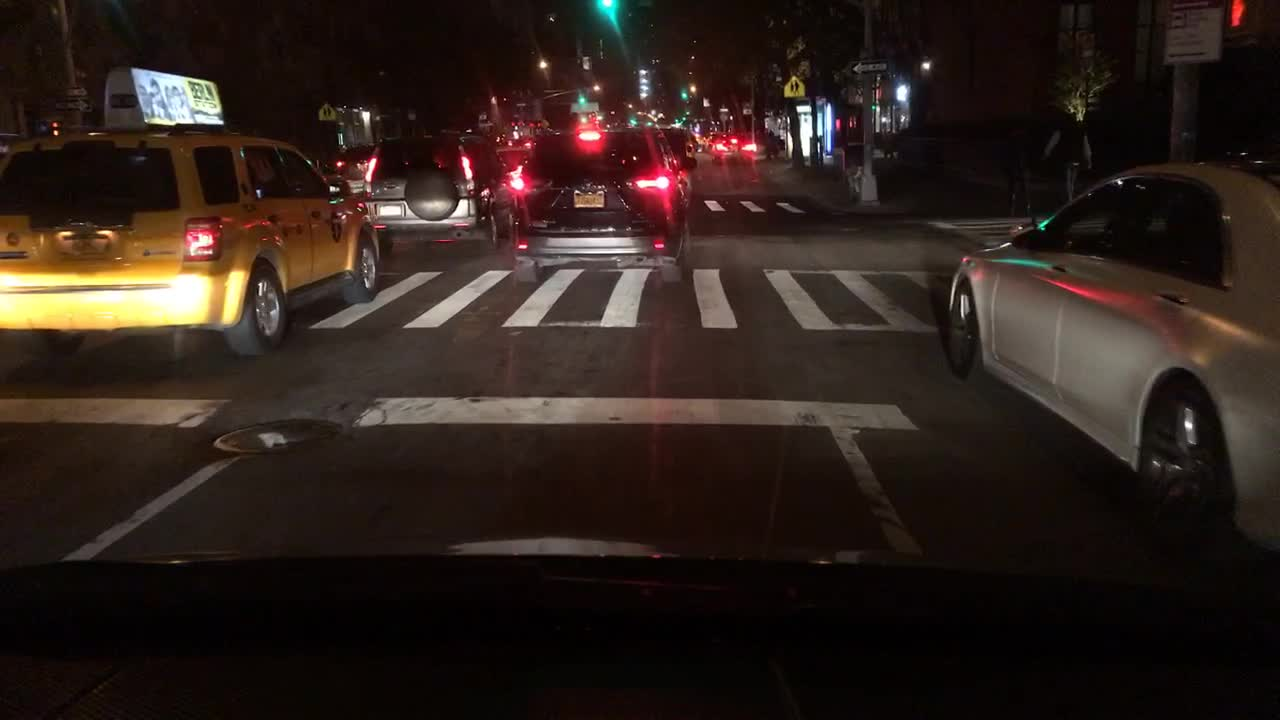car: (938, 142, 1280, 539), (1, 59, 384, 363), (504, 122, 692, 287), (360, 130, 516, 251), (495, 141, 539, 197), (333, 147, 375, 197), (657, 125, 698, 163), (710, 131, 752, 163)
person: (840, 132, 864, 196)
traffic light: (1225, 1, 1247, 36), (594, 0, 618, 14), (574, 93, 587, 115), (677, 87, 690, 104), (626, 111, 637, 129)
traffic sign: (1160, 5, 1220, 62), (851, 60, 887, 76), (781, 76, 803, 98), (319, 101, 335, 121), (66, 102, 92, 113), (66, 85, 88, 96)
